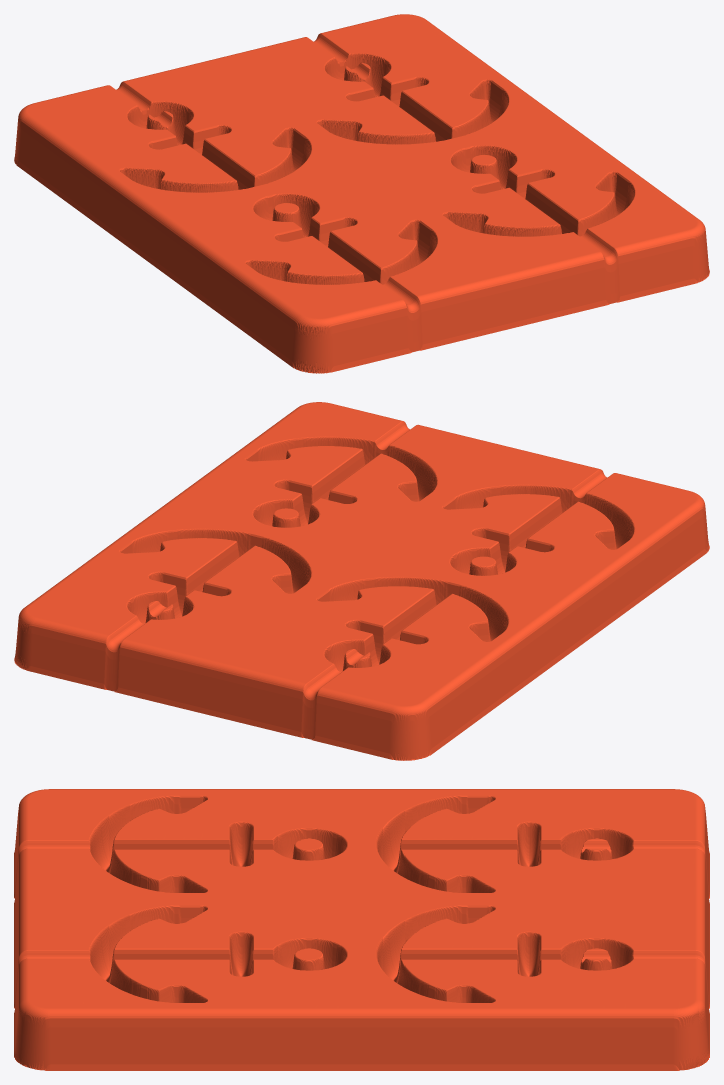
File: mold.glb
3 views of the same model, one above another, from view 1: azimuth 30°, elevation 25°; view 2: azimuth 150°, elevation 25°; view 3: azimuth 270°, elevation 25° (orthographic). The views are drawn at different scales.
Visible parts, largest first — view 1: geometry_0; view 2: geometry_0; view 3: geometry_0.
Boxes of the visible parts, bbox=[...] form: geometry_0: bbox=[14, 14, 709, 373]; geometry_0: bbox=[14, 402, 709, 760]; geometry_0: bbox=[14, 789, 709, 1070].
Bounding box in the file's own units: 0.136 × 0.0155 × 0.1735.
